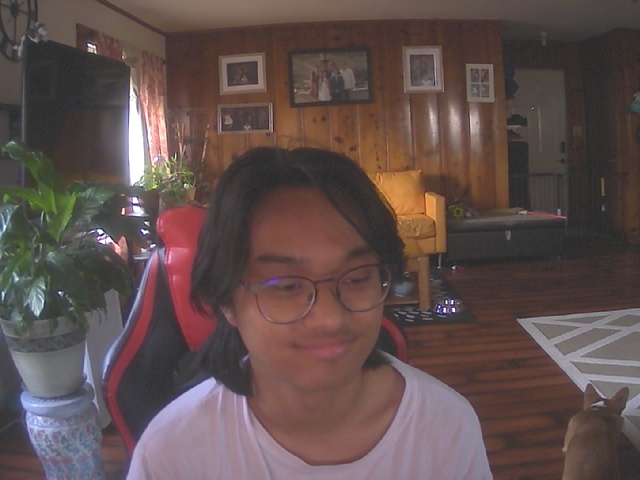happy: (208, 150, 395, 394)
